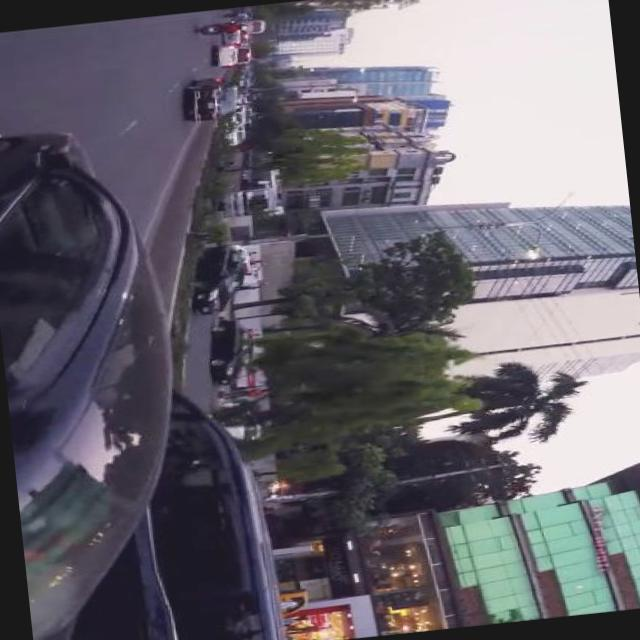bus: (216, 142, 282, 216), (246, 18, 268, 32)
car: (0, 118, 205, 640), (191, 242, 254, 314), (210, 315, 260, 384), (188, 73, 244, 122), (228, 122, 250, 144)
motorcycle: (198, 19, 240, 36)
truck: (83, 375, 290, 640), (217, 40, 254, 66)
